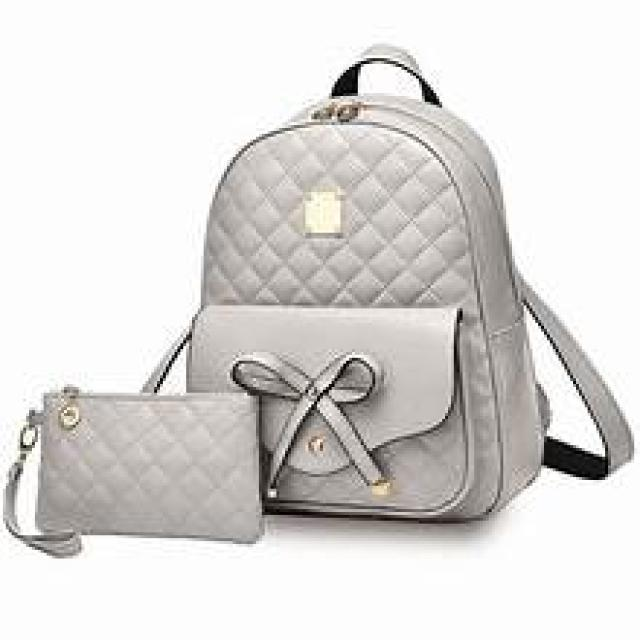backpack: (185, 48, 621, 550)
